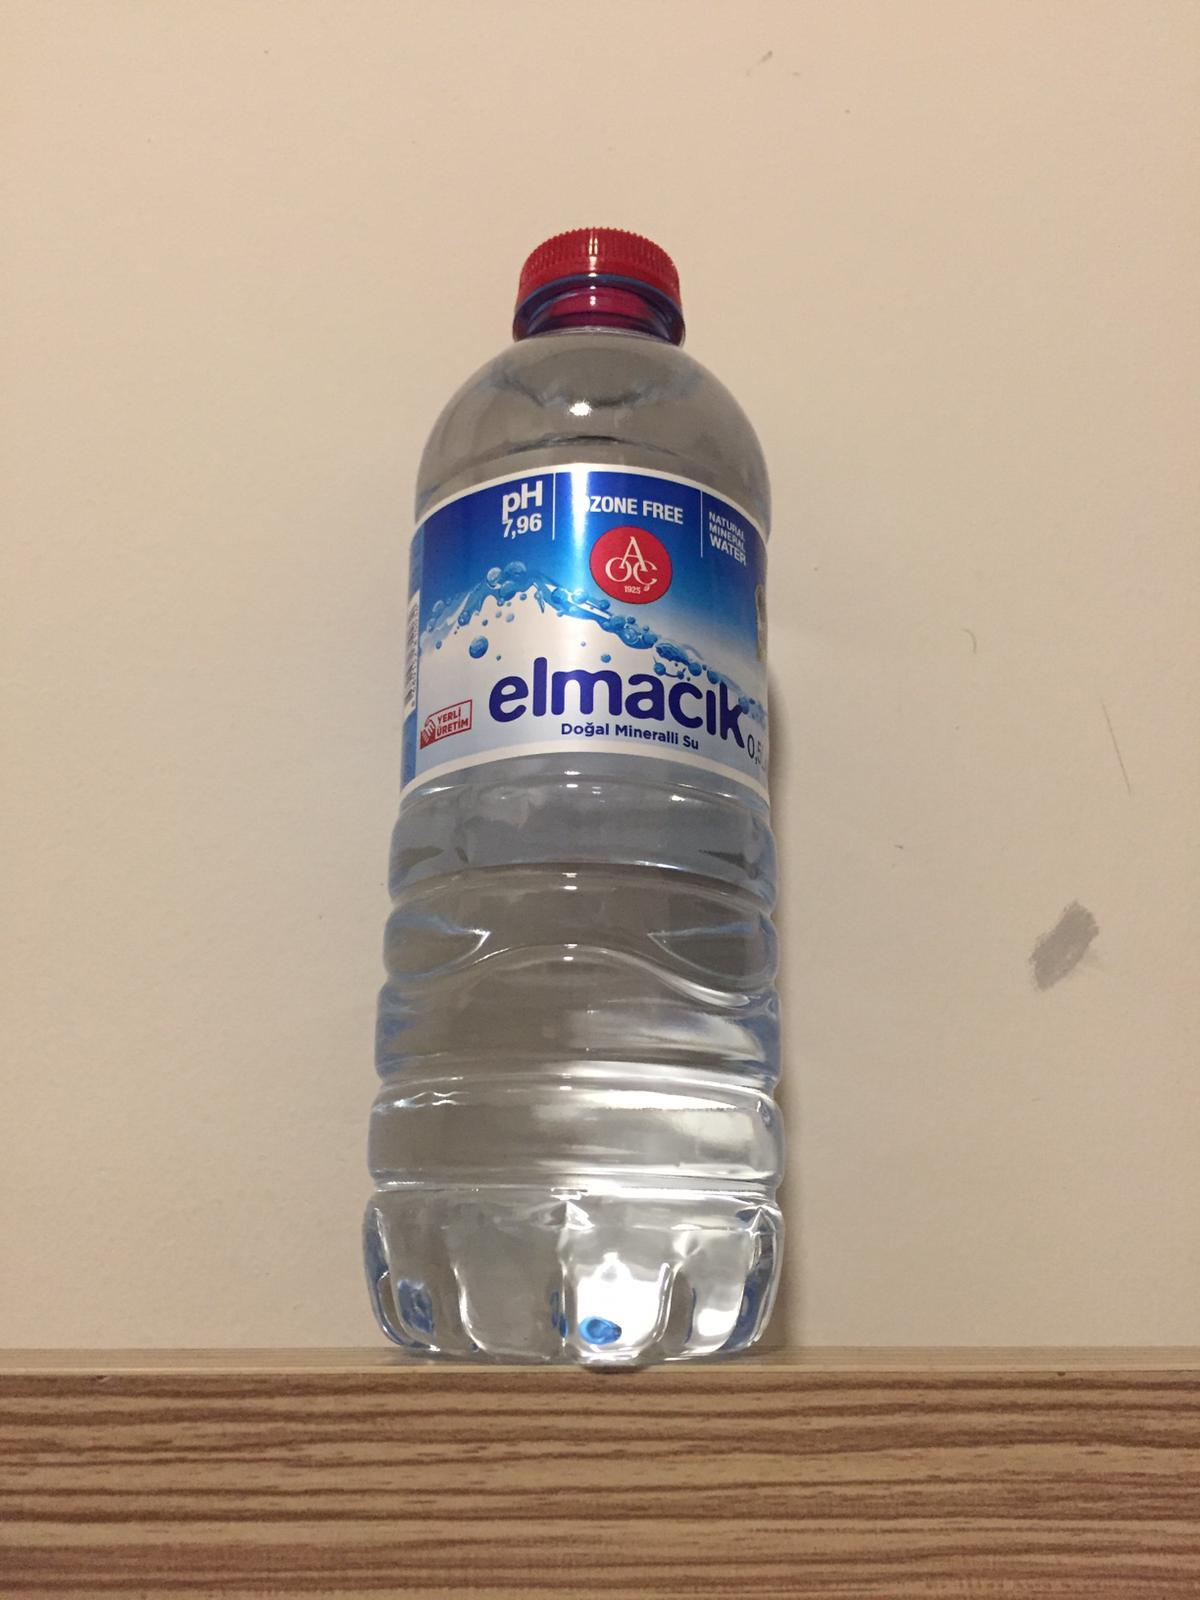bottle: (374, 219, 792, 1356)
